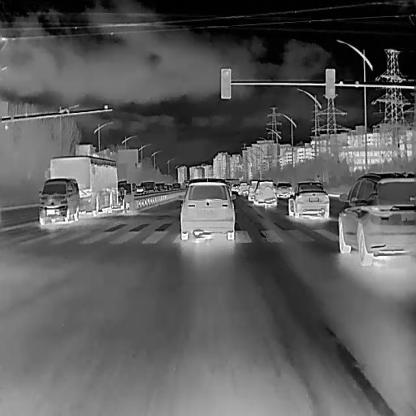car: (337, 171, 415, 266), (38, 155, 118, 225), (177, 178, 236, 239), (288, 181, 330, 217), (116, 181, 138, 210), (253, 180, 277, 205), (115, 185, 127, 214), (276, 182, 293, 198), (249, 180, 258, 202), (140, 180, 155, 192), (238, 182, 248, 198), (135, 186, 146, 194), (155, 182, 164, 191), (171, 182, 181, 189), (231, 183, 239, 191), (165, 184, 172, 190)
